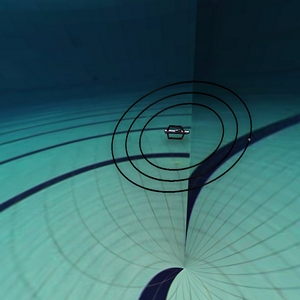circle: (96, 73, 259, 205)
submarine: (158, 120, 201, 147)
